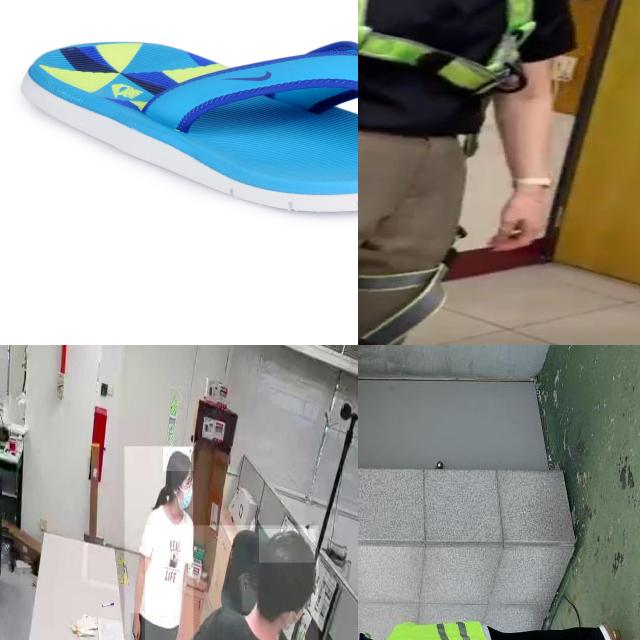Harness: (358, 0, 543, 345)
Sandals: (15, 37, 358, 216)
boots: (594, 619, 634, 640)
face_mask: (172, 471, 194, 514)
hand_noglove: (130, 613, 141, 640)
head_nohelmet: (259, 529, 316, 563), (163, 447, 194, 472)
person: (145, 525, 319, 640), (358, 580, 640, 640), (124, 446, 193, 640)
vest: (381, 619, 495, 640)
